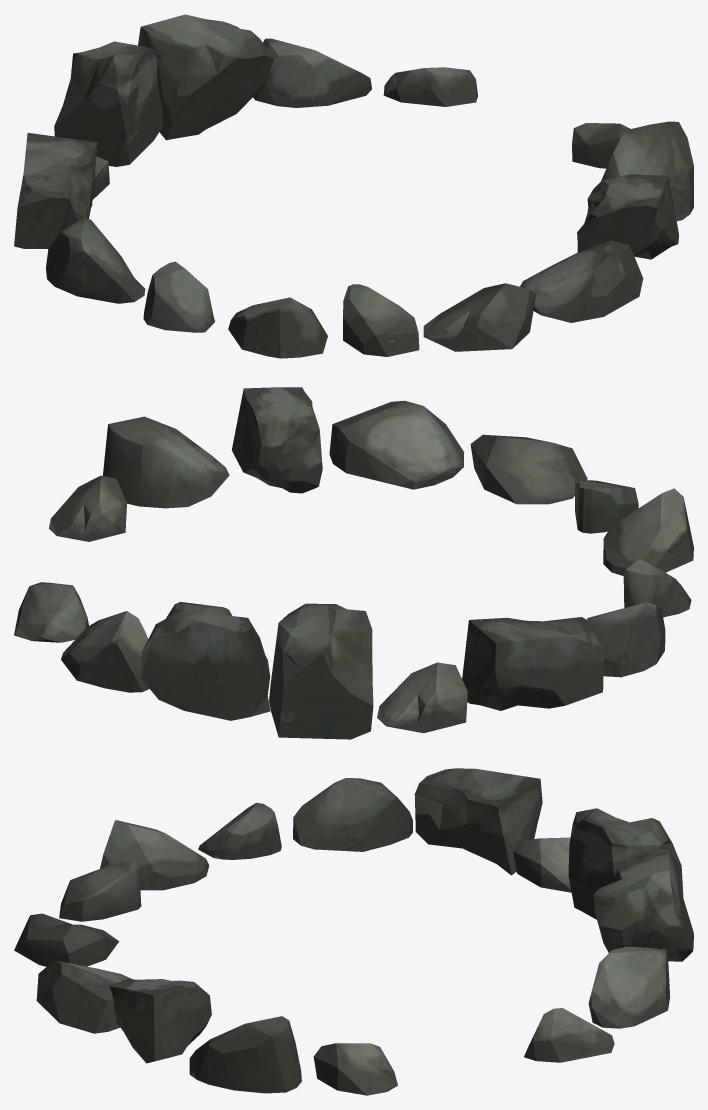
The model's file is crop_circle_largeSolo.fbx.
The picture shows the model from 3 angles, top to bottom: view 1: azimuth 30°, elevation 25°; view 2: azimuth 150°, elevation 25°; view 3: azimuth 270°, elevation 25°; orthographic projection. The views are drawn at different scales.
Visible parts, largest first — view 1: crop_circle004; view 2: crop_circle004; view 3: crop_circle004.
Boxes of the visible parts, x1=… form: crop_circle004: x1=14, y1=14, x2=693, y2=358; crop_circle004: x1=14, y1=387, x2=693, y2=739; crop_circle004: x1=14, y1=768, x2=693, y2=1095.
Bounding box in the file's own units: 223 × 39.72 × 230.
